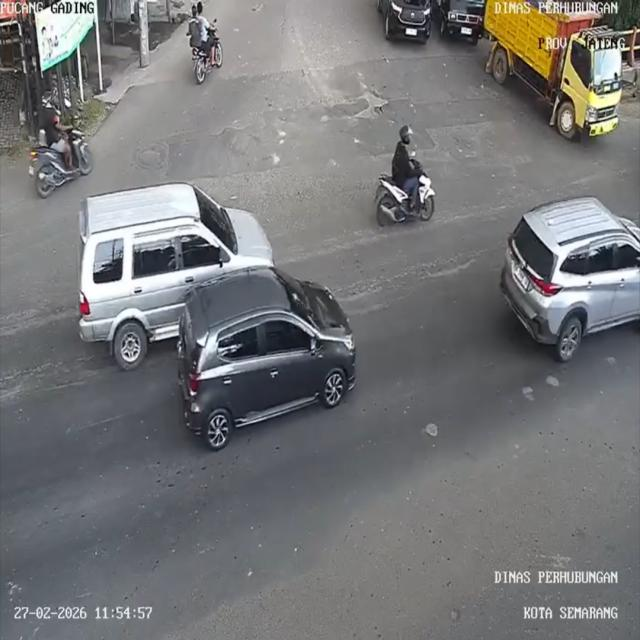motorcycle: (26, 139, 97, 201), (372, 172, 437, 228), (192, 31, 224, 86)
person: (44, 92, 77, 158), (390, 126, 420, 190), (186, 5, 202, 49), (196, 0, 211, 41)
rider_region: (30, 92, 94, 198), (374, 125, 436, 227), (184, 0, 226, 87)
